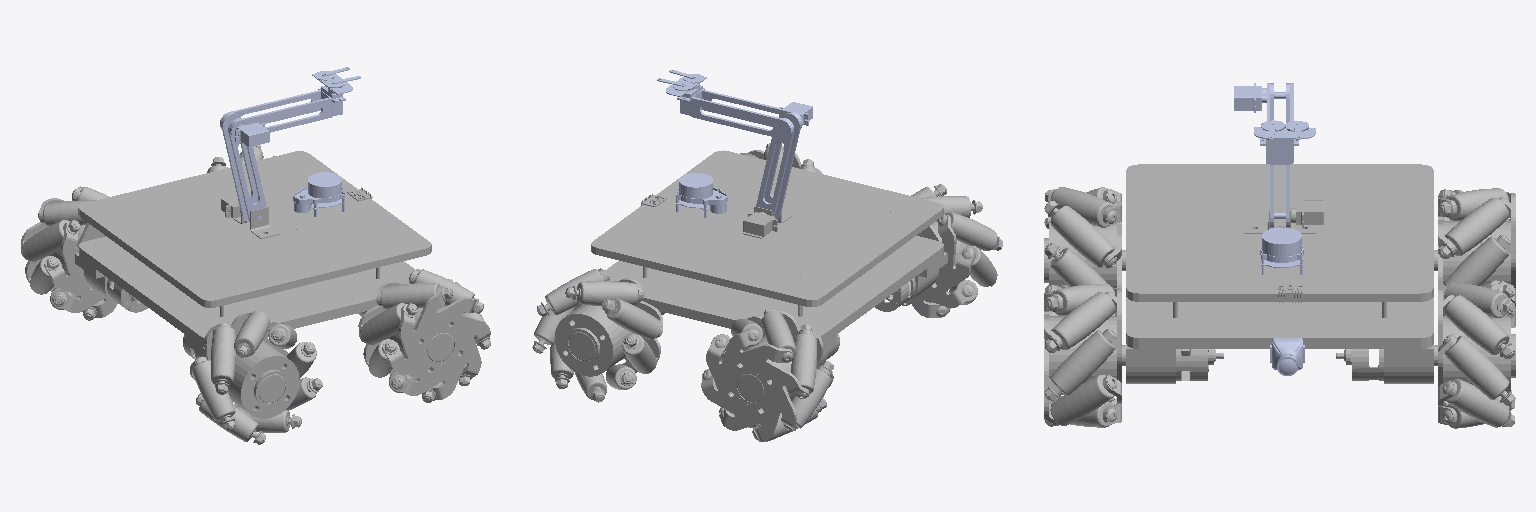
robot.urdf — robot_model_final:
<?xml version="1.0" encoding="utf-8"?>
<!-- This URDF was automatically created by SolidWorks to URDF Exporter! Originally created by
[author] ([email redacted]) 
     Commit Version: 1.6.0-4-g7f85cfe  Build Version: 1.6.7995.38578
     For more information, please see http://wiki.ros.org/sw_urdf_exporter -->
<robot
  name="robot_model_final">
  <!-- Base link -->
  <link
    name="base_link">
    <inertial>
      <origin
        xyz="6.12029265212874E-05 0.000108707800167779 -0.035069423573929"
        rpy="0 0 0" />
      <mass
        value="3" />
      <inertia
        ixx="0.00582740669898415"
        ixy="1.2136097657534E-07"
        ixz="-1.38070566679223E-05"
        iyy="0.00578431431397858"
        iyz="-5.32934605161888E-08"
        izz="0.0115147279955505" />
    </inertial>
    <visual>
      <origin
        xyz="0 0 0"
        rpy="0 0 0" />
      <geometry>
        <mesh
          filename="package://robot_model_final/meshes/base_link.STL" />
      </geometry>
      <material
        name="">
        <color
          rgba="0.752941176470588 0.752941176470588 0.752941176470588 1" />
      </material>
    </visual>
    <collision>
      <origin
        xyz="0 0 0"
        rpy="0 0 0" />
      <geometry>
        <mesh
          filename="package://robot_model_final/meshes/base_link.STL" />
      </geometry>
    </collision>
  </link>

  <!-- Banh xe phia truoc ben phai: Link and Joint -->
  <link
    name="r1_link">
    <inertial>
      <origin
        xyz="2.77555756156289E-17 1.44415729375069E-16 0.0318963396935971"
        rpy="0 0 0" />
      <mass
        value="1" />

      <inertia
        ixx="0.000164665684231058"
        ixy="6.69344493161661E-17"
        ixz="1.54302509693658E-16"
        iyy="0.000164665684230852"
        iyz="4.61155441429579E-17"
        izz="0.000205539151179695" />
    </inertial>
    <visual>
      <origin
        xyz="0 0 0"
        rpy="0 0 0" />
      <geometry>
        <mesh
          filename="package://robot_model_final/meshes/r1_link.STL" />
      </geometry>
      <material
        name="">
        <color
          rgba="0.752941176470588 0.752941176470588 0.752941176470588 1" />
      </material>
    </visual>
    <collision>
      <origin
        xyz="0 0 0"
        rpy="0 0 0" />
      <geometry>
        <mesh
          filename="package://robot_model_final/meshes/r1_link.STL" />
      </geometry>
    </collision>
  </link>
  <joint
    name="r1_joint"
    type="continuous">
    <origin
      xyz="-0.0918869559356422 0.19175 -0.0692209396075109"
      rpy="1.5708 0 0" />
    <parent
      link="base_link" />
    <child
      link="r1_link" />
    <axis
      xyz="0 0 1" />
    <!-- <dynamics
      damping="0.1"
      friction="0.8" /> -->
  </joint>
  <link
    name="r2_link">
    <inertial>
      <origin
        xyz="2.77555756156289E-17 3.22658566531686E-16 0.0332998499013895"
        rpy="0 0 0" />
      <mass
        value="1" />
      <inertia
        ixx="0.000141926294241648"
        ixy="-7.06425478010086E-18"
        ixz="-1.34039669834562E-16"
        iyy="0.000141926294241716"
        iyz="-7.01697770803214E-18"
        izz="0.000160542152522348" />
    </inertial>
    <visual>
      <origin
        xyz="0 0 0"
        rpy="0 0 0" />
      <geometry>
        <mesh
          filename="package://robot_model_final/meshes/r2_link.STL" />
      </geometry>
      <material
        name="">
        <color
          rgba="0.752941176470588 0.752941176470588 0.752941176470588 1" />
      </material>
    </visual>
    <collision>
      <origin
        xyz="0 0 0"
        rpy="0 0 0" />
      <geometry>
        <mesh
          filename="package://robot_model_final/meshes/r2_link.STL" />
      </geometry>
    </collision>
  </link>
  <joint
    name="r2_joint"
    type="continuous">
    <origin
      xyz="0.092218 0.19175 -0.068779"
      rpy="1.5708  0 0" />
    <!-- 0.22639 -->
    <parent
      link="base_link" />
    <child
      link="r2_link" />
    <axis
      xyz="0 0 1" />
    <!-- <dynamics
      damping="0.1"
      friction="0.8" /> -->
  </joint>
  <link
    name="l1_link">
    <inertial>
      <origin
        xyz="-2.42861286636753E-15 1.81972492629967E-15 -0.0332998499029291"
        rpy="0 0 0" />
      <mass
        value="1" />
      <inertia
        ixx="0.000141926294240933"
        ixy="-2.08889442100343E-17"
        ixz="1.78583132643176E-16"
        iyy="0.000141926294240951"
        iyz="2.95383417415828E-17"
        izz="0.000160542152521557" />
    </inertial>
    <visual>
      <origin
        xyz="0 0 0"
        rpy="0 0 0" />
      <geometry>
        <mesh
          filename="package://robot_model_final/meshes/l1_link.STL" />
      </geometry>
      <material
        name="">
        <color
          rgba="0.752941176470588 0.752941176470588 0.752941176470588 1" />
      </material>
    </visual>
    <collision>
      <origin
        xyz="0 0 0"
        rpy="0 0 0" />
      <geometry>
        <mesh
          filename="package://robot_model_final/meshes/l1_link.STL" />
      </geometry>
    </collision>
  </link>
  <joint
    name="l1_joint"
    type="continuous">
    <origin
      xyz="-0.091887 -0.19175 -0.069221"
      rpy="1.5708 0 0" />
    <parent
      link="base_link" />
    <child
      link="l1_link" />
    <axis
      xyz="0 0 1" />
    <!-- <dynamics
      damping="0.1"
      friction="0.8" /> -->
  </joint>
  <link
    name="l2_link">
    <inertial>
      <origin
        xyz="-7.63278329429795E-16 2.39391839684799E-15 -0.0311036603057481"
        rpy="0 0 0" />
      <mass
        value="1" />
      <inertia
        ixx="0.000164665684230644"
        ixy="-2.88836117431348E-17"
        ixz="-9.82439634202373E-17"
        iyy="0.000164665684230927"
        iyz="-9.22282295497188E-17"
        izz="0.000205539151179414" />
    </inertial>
    <visual>
      <origin
        xyz="0 0 0"
        rpy="0 0 0" />
      <geometry>
        <mesh
          filename="package://robot_model_final/meshes/l2_link.STL" />
      </geometry>
      <material
        name="">
        <color
          rgba="0.752941176470588 0.752941176470588 0.752941176470588 1" />
      </material>
    </visual>
    <collision>
      <origin
        xyz="0 0 0"
        rpy="0 0 0" />
      <geometry>
        <mesh
          filename="package://robot_model_final/meshes/l2_link.STL" />
      </geometry>
    </collision>
  </link>
  <joint
    name="l2_joint"
    type="continuous">
    <origin
      xyz="0.092218 -0.19175 -0.068779"
      rpy="1.5708 0 0" />
    <parent
      link="base_link" />
    <child
      link="l2_link" />
    <axis
      xyz="0 0 1" />
    <!-- <dynamics
      damping="0.1"
      friction="0.8" /> -->
  </joint>
  <link
    name="camera_link">
    <inertial>
      <origin
        xyz="-0.152512096291791 -0.00632735066538506 0.000436829896571737"
        rpy="0 0 0" />
      <mass
        value="0.00234451129545" />
      <inertia
        ixx="0.0542270178071188"
        ixy="0.000939736945780014"
        ixz="-0.00027029394647226"
        iyy="0.0268122928385178"
        iyz="9.80052751894619E-06"
        izz="0.0731544011306837" />
    </inertial>
    <visual>
      <origin
        xyz="0 0 0"
        rpy="0 0 0" />
      <geometry>
        <mesh
          filename="package://robot_model_final/meshes/camera_link.STL" />
      </geometry>
      <material
        name="">
        <color
          rgba="0.792156862745098 0.819607843137255 0.933333333333333 1" />
      </material>
    </visual>
    <collision>
      <origin
        xyz="0 0 0"
        rpy="0 0 0" />
      <geometry>
        <mesh
          filename="package://robot_model_final/meshes/camera_link.STL" />
      </geometry>
    </collision>
  </link>
  <joint
    name="camera_joint"
    type="fixed">
    <origin
      xyz="0.153621773993271 0.00624823378958103 -0.0505061004252008"
      rpy="0 0 0" />
    <parent
      link="base_link" />
    <child
      link="camera_link" />
    <axis
      xyz="0 0 0" />
    <dynamics
      damping="0.01"
      friction="0.01" />
  </joint>
  <link
    name="lidar_link">
    <inertial>
      <origin
        xyz="-0.00829409957033964 -1.38777878078145E-17 0.010701142222791"
        rpy="0 0 0" />
      <mass
        value="0.018336969016424" />
      <inertia
        ixx="1.94600350247756E-06"
        ixy="1.90897775740753E-22"
        ixz="-5.89556488554444E-07"
        iyy="3.42731242471714E-06"
        iyz="3.8014523688337E-22"
        izz="3.92757888361653E-06" />
    </inertial>
    <visual>
      <origin
        xyz="0 0 0"
        rpy="0 0 0" />
      <geometry>
        <mesh
          filename="package://robot_model_final/meshes/lidar_link.STL" />
      </geometry>
      <material
        name="">
        <color
          rgba="0.792156862745098 0.819607843137255 0.933333333333333 1" />
      </material>
    </visual>
    <collision>
      <origin
        xyz="0 0 0"
        rpy="0 0 0" />
      <geometry>
        <mesh
          filename="package://robot_model_final/meshes/lidar_link.STL" />
      </geometry>
    </collision>
  </link>
  <joint
    name="lidar_joint"
    type="fixed">
    <origin
      xyz="0.081426 0.0016541 0.010345"
      rpy="0 -0.0024023 0.00014479" />
    <parent
      link="base_link" />
    <child
      link="lidar_link" />
    <axis
      xyz="0 0 0" />
    <dynamics
      damping="0.01"
      friction="0.01" />
  </joint>
  <link
    name="imu_link">
    <inertial>
      <origin
        xyz="-0.0156688155118778 0.0104956315417902 0.0106839745884378"
        rpy="0 0 0" />
      <mass
        value="0.00100170070103827" />
      <inertia
        ixx="3.03937098435439E-08"
        ixy="1.30602732863116E-11"
        ixz="-3.82182226686084E-11"
        iyy="1.69531813594972E-08"
        iyz="3.13714257870475E-14"
        izz="4.63285990388826E-08" />
    </inertial>
    <visual>
      <origin
        xyz="0 0 0"
        rpy="0 0 0" />
      <geometry>
        <mesh
          filename="package://robot_model_final/meshes/imu_link.STL" />
      </geometry>
      <material
        name="">
        <color
          rgba="0.752941176470588 0.752941176470588 0.752941176470588 1" />
      </material>
    </visual>
    <collision>
      <origin
        xyz="0 0 0"
        rpy="0 0 0" />
      <geometry>
        <mesh
          filename="package://robot_model_final/meshes/imu_link.STL" />
      </geometry>
    </collision>
  </link>
  <joint
    name="imu_joint"
    type="fixed">
    <origin
      xyz="0.13613 -0.0020053 -0.0080599"
      rpy="0 0 0" />
    <parent
      link="base_link" />
    <child
      link="imu_link" />
    <axis
      xyz="0 0 0" />
    <dynamics
      damping="0.01"
      friction="0.01" />
  </joint>
  <link
    name="arm_link_1">
    <inertial>
      <origin
        xyz="-0.0112033450149954 0.0491263413995989 -0.00901913205749204"
        rpy="0 0 0" />
      <mass
        value="0.0100782671404842" />
      <inertia
        ixx="1.26950989861427E-05"
        ixy="2.79780182824188E-06"
        ixz="-1.03791120125071E-09"
        iyy="1.07547020502207E-06"
        iyz="2.82960366199418E-09"
        izz="1.37169259019842E-05" />
    </inertial>
    <visual>
      <origin
        xyz="0 0 0"
        rpy="0 0 0" />
      <geometry>
        <mesh
          filename="package://robot_model_final/meshes/arm_link_1.STL" />
      </geometry>
      <material
        name="">
        <color
          rgba="0.792156862745098 0.819607843137255 0.933333333333333 1" />
      </material>
    </visual>
    <collision>
      <origin
        xyz="0 0 0"
        rpy="0 0 0" />
      <geometry>
        <mesh
          filename="package://robot_model_final/meshes/arm_link_1.STL" />
      </geometry>
    </collision>
  </link>
  <joint
    name="arm_joint_1"
    type="revolute">
    <origin
      xyz="-4.2741E-05 -0.0089087 0.014"
      rpy="1.5708 0 0" />
    <parent
      link="base_link" />
    <child
      link="arm_link_1" />
    <axis
      xyz="0 0 -1" />
    <limit
      lower="-0.35"
      upper="0.35"
      effort="100"
      velocity="10" />
    <dynamics
      damping="0.01"
      friction="0.01" />
  </joint>
  <link
    name="arm_link_2">
    <inertial>
      <origin
        xyz="0.0569538942304978 0.00242153352607985 0.0179571892239791"
        rpy="0 0 0" />
      <mass
        value="0.0241822900190545" />
      <inertia
        ixx="1.72296770034613E-06"
        ixy="1.37452446217274E-08"
        ixz="-3.60461885129109E-08"
        iyy="1.12175606497327E-05"
        iyz="-2.87807320558505E-08"
        izz="1.11719252273331E-05" />
    </inertial>
    <visual>
      <origin
        xyz="0 0 0"
        rpy="0 0 0" />
      <geometry>
        <mesh
          filename="package://robot_model_final/meshes/arm_link_2.STL" />
      </geometry>
      <material
        name="">
        <color
          rgba="0.792156862745098 0.819607843137255 0.933333333333333 1" />
      </material>
    </visual>
    <collision>
      <origin
        xyz="0 0 0"
        rpy="0 0 0" />
      <geometry>
        <mesh
          filename="package://robot_model_final/meshes/arm_link_2.STL" />
      </geometry>
    </collision>
  </link>
  <joint
    name="arm_joint_2"
    type="revolute">
    <origin
      xyz="-0.022231 0.097493 -0.020023"
      rpy="0 0 0" />
    <parent
      link="arm_link_1" />
    <child
      link="arm_link_2" />
    <axis
      xyz="0 0 -1" />
    <limit
      lower="-0.35"
      upper="0.35"
      effort="100"
      velocity="10" />
    <dynamics
      damping="0.01"
      friction="0.01" />
  </joint>

  <!-- camera Plugin-->
  <gazebo reference="camera_link">
    <sensor name="camera" type="camera">
      <pose> 0 0 0 0 0 0 </pose>
      <visualize>true</visualize>
      <update_rate>10</update_rate>
      <camera>
        <horizontal_fov>1.089</horizontal_fov>
        <image>
          <format>R8G8B8</format>
          <width>640</width>
          <height>480</height>
        </image>
        <clip>
          <near>0.05</near>
          <far>8.0</far>
        </clip>
      </camera>
      <plugin name="camera_controller" filename="libgazebo_ros_camera.so">
        <frame_name>camera_link_optical</frame_name>
      </plugin>
    </sensor>
  </gazebo>

  <!-- Lidar plugin-->
  <gazebo reference="lidar_link">
    <sensor type="ray" name="lidar_sensor">
      <pose>0 0 0 0 0 0</pose>
      <visualize>true</visualize>
      <update_rate>10</update_rate>
      <ray>
        <scan>
          <horizontal>
            <samples>720</samples>
            <resolution>1</resolution>
            <min_angle>-2.356</min_angle>
            <max_angle>2.356</max_angle>
          </horizontal>
        </scan>
        <range>
          <min>0.1</min>
          <max>7.0</max>
          <resolution>0.01</resolution>
        </range>
      </ray>
      <plugin name="lidar_controller" filename="libgazebo_ros_laser.so">
        <topicName>/lidar/scan</topicName>
        <frameName>lidar_link</frameName>
      </plugin>
    </sensor>
  </gazebo>

  <!-- IMU plugin -->
  <gazebo reference="imu_link">
    <gravity>true</gravity>
    <sensor name="imu_sensor" type="imu">
      <always_on>true</always_on>
      <update_rate>10</update_rate>
      <visualize>true</visualize>
      <topic>__default_topic__</topic>
      <plugin filename="libgazebo_ros_imu_sensor.so" name="imu_plugin">
        <topicName>imu</topicName>
        <bodyName>imu_link</bodyName>
        <updateRateHZ>10.0</updateRateHZ>
        <frameName>imu_link</frameName>
        <initialOrientationAsReference>false</initialOrientationAsReference>
      </plugin>
      <pose>0 0 0 0 0 0</pose>
    </sensor>
  </gazebo>


  <!-- Add transmission cho 2 khớp tay máy và 4 khớp bánh xe-->

  <transmission name="wheel_l1_trasmission">
    <type>transmission_interface/SimpleTransmission</type>
    <joint name="l1_joint">
      <hardwareInterface>hardware_interface/VelocityJointInterface</hardwareInterface>
    </joint>
    <actuator name="l1_motor">
      <mechanicalReduction>1</mechanicalReduction>
    </actuator>
  </transmission>

  <transmission name="wheel_l2_trasmission">
    <type>transmission_interface/SimpleTransmission</type>
    <joint name="l2_joint">
      <hardwareInterface>hardware_interface/VelocityJointInterface</hardwareInterface>
    </joint>
    <actuator name="l2_motor">
      <mechanicalReduction>1</mechanicalReduction>
    </actuator>
  </transmission>

  <transmission name="wheel_r1_trasmission">
    <type>transmission_interface/SimpleTransmission</type>
    <joint name="r1_joint">
      <hardwareInterface>hardware_interface/VelocityJointInterface</hardwareInterface>
    </joint>
    <actuator name="r1_motor">
      <mechanicalReduction>1</mechanicalReduction>
    </actuator>
  </transmission>

  <transmission name="wheel_r2_trasmission">
    <type>transmission_interface/SimpleTransmission</type>
    <joint name="r2_joint">
      <hardwareInterface>hardware_interface/VelocityJointInterface</hardwareInterface>
    </joint>
    <actuator name="r2_motor">
      <mechanicalReduction>1</mechanicalReduction>
    </actuator>
  </transmission>

  <transmission name="arm_1_joint_transmission">
    <type>transmission_interface/SimpleTransmission</type>
    <joint name="arm_joint_1">
      <hardwareInterface>hardware_interface/PositionJointInterface</hardwareInterface>
    </joint>
    <actuator name="arm_motor_1">
      <mechanicalReduction>1.0</mechanicalReduction>
    </actuator>
  </transmission>

  <transmission name="arm_2_joint_transmission">
    <type>transmission_interface/SimpleTransmission</type>
    <joint name="arm_joint_2">
      <hardwareInterface>hardware_interface/PositionJointInterface</hardwareInterface>
    </joint>
    <actuator name="arm_motor_2">
      <mechanicalReduction>1.0</mechanicalReduction>
    </actuator>
  </transmission>

  <!-- ROS Control -->
  <gazebo>
    <plugin name="gazebo_ros_control" filename="libgazebo_ros_control.so">
    </plugin>
  </gazebo>


</robot>


<!-- Camera phía sau -->
<!-- <link name="camera_rear_link">
    <visual>
      <geometry>
        <box size="0.1 0.1 0.1" />  
      </geometry>
      <material name="Gazebo/Gray" />
    </visual>
    <inertial>
      <mass>0.1</mass>
      <origin xyz="0 0 0" />
      <inertia ixx="0.001" iyy="0.001" izz="0.001" ixy="0" ixz="0" iyz="0" />
    </inertial>
  </link>

  <joint name="camera_rear_joint" type="fixed">
    <parent link="base_link" />
    <child link="camera_rear_link" />
    <origin xyz="-0.1 0 0.1" rpy="0 0 3.14" /> 
  </joint>

  <gazebo reference="camera_rear_link">
    <sensor name="camera_rear" type="camera">
      <update_rate>30</update_rate>
      <camera>
        <horizontal_fov>1.396</horizontal_fov>
        <image>
          <width>640</width>
          <height>480</height>
          <format>R8G8B8</format>
        </image>
        <clip>
          <near>0.02</near>
          <far>100</far>
        </clip>
      </camera>
      <plugin name="gazebo_ros_camera" filename="libgazebo_ros_camera.so">
        <alwaysOn>true</alwaysOn>
        <updateRate>30.0</updateRate>
        <cameraName>rear_camera</cameraName>
        <imageTopicName>/rear_camera/image_raw</imageTopicName>
        <cameraInfoTopicName>/rear_camera/camera_info</cameraInfoTopicName>
        <frameName>camera_rear_link</frameName>
      </plugin>
    </sensor>
  </gazebo> -->
  

--- Render facts (derived) ---
3 views of the same robot in one strip: view 1: azimuth 30°, elevation 25°; view 2: azimuth 150°, elevation 25°; view 3: azimuth 270°, elevation 25° (orthographic).
Robot: robot_model_final — 10 links, 9 joints (2 revolute, 4 continuous, 3 fixed); root link base_link; default pose: all joints at 0.
Visible links, largest first — view 1: base_link, l2_link, l1_link, r1_link, arm_link_2, arm_link_1, lidar_link; view 2: base_link, r1_link, r2_link, l1_link, arm_link_2, arm_link_1, lidar_link; view 3: base_link, l2_link, r2_link, r1_link, l1_link, arm_link_2, lidar_link, camera_link, arm_link_1.
Boxes of the visible links, left/top/right/bottom form: base_link: left=75, top=151, right=453, bottom=402; l2_link: left=358, top=269, right=490, bottom=402; l1_link: left=190, top=311, right=322, bottom=444; r1_link: left=21, top=186, right=116, bottom=320; arm_link_2: left=220, top=67, right=360, bottom=146; arm_link_1: left=221, top=113, right=266, bottom=221; lidar_link: left=293, top=172, right=344, bottom=216; base_link: left=569, top=150, right=947, bottom=402; r1_link: left=701, top=308, right=833, bottom=441; r2_link: left=532, top=268, right=662, bottom=402; l1_link: left=902, top=184, right=1002, bottom=317; arm_link_2: left=657, top=70, right=812, bottom=138; arm_link_1: left=756, top=113, right=800, bottom=219; lidar_link: left=676, top=173, right=727, bottom=217; base_link: left=1122, top=164, right=1437, bottom=383; l2_link: left=1044, top=284, right=1121, bottom=427; r2_link: left=1438, top=283, right=1515, bottom=428; r1_link: left=1438, top=188, right=1515, bottom=327; l1_link: left=1044, top=187, right=1121, bottom=315; arm_link_2: left=1234, top=83, right=1315, bottom=164; lidar_link: left=1260, top=228, right=1303, bottom=274; camera_link: left=1270, top=338, right=1304, bottom=375; arm_link_1: left=1270, top=83, right=1289, bottom=227.
Bounding box of the posed robot: 0.3061 × 0.3835 × 0.264 m (x, y, z).
10 mesh visuals loaded from 10 distinct referenced files (10 binary STL).
